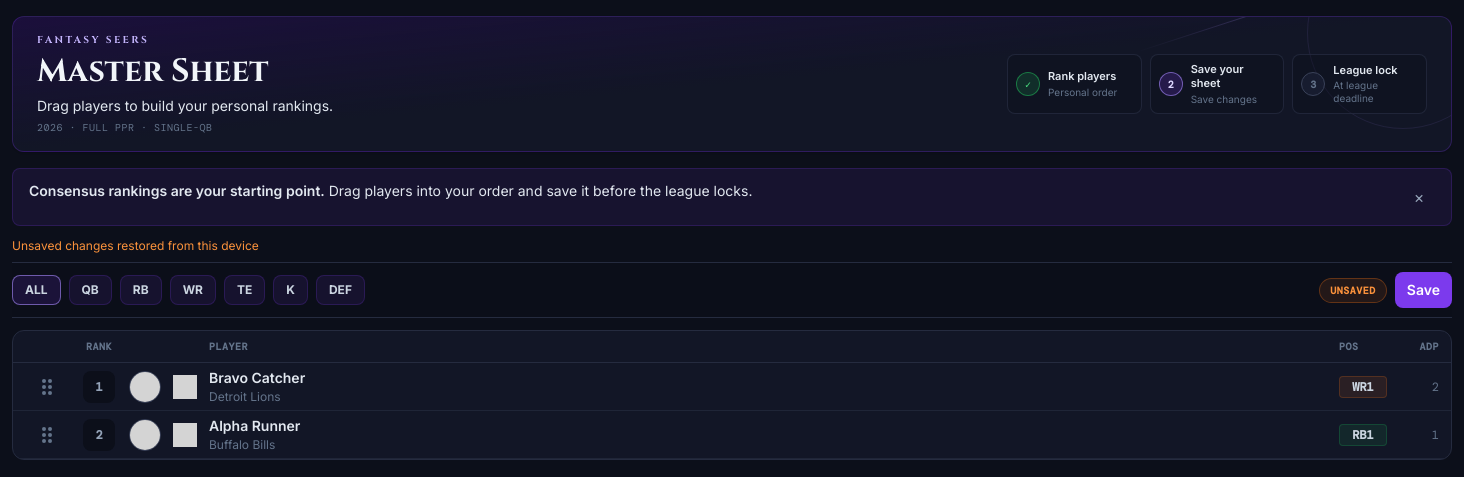
Test: MasterSheetPage › restores a local draft, warns before unload, and clears it after saving
The image size is (1464, 477).
Check: the text "Unsaved changes restored from this device" is shown, box left=12, top=238, right=259, bottom=253
Click the button with aria-label "Save Rankings": (1423, 290) left=1395, top=272, right=1452, bottom=308
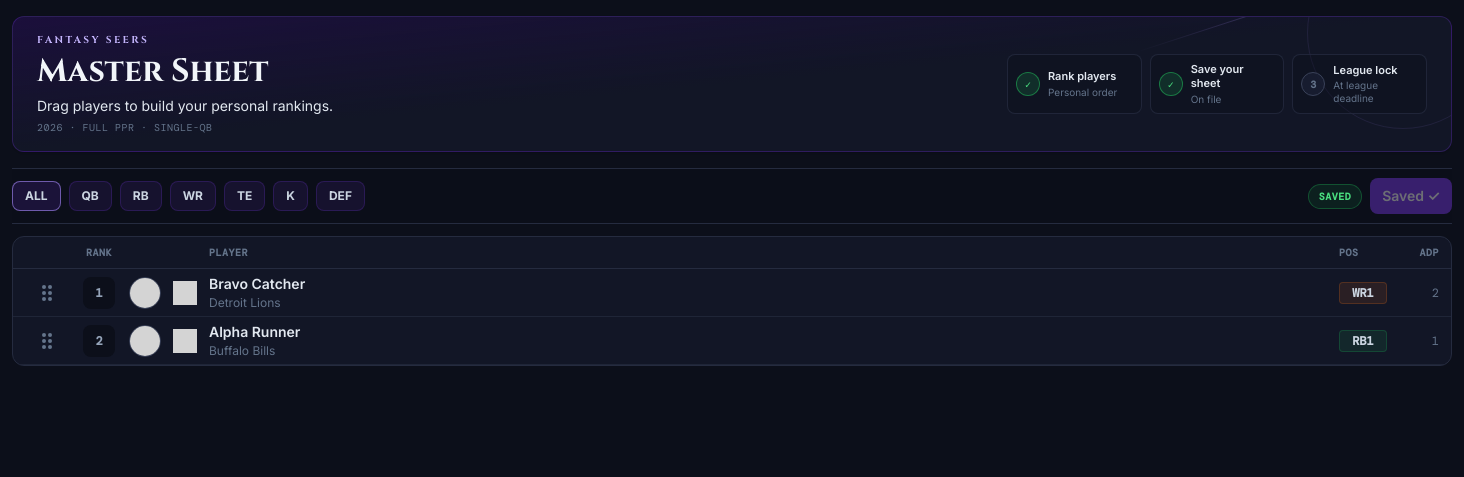
Check: the button "Saved ✓" is disabled, box left=1370, top=178, right=1452, bottom=214
